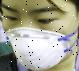with_mask: (2, 1, 79, 71)
